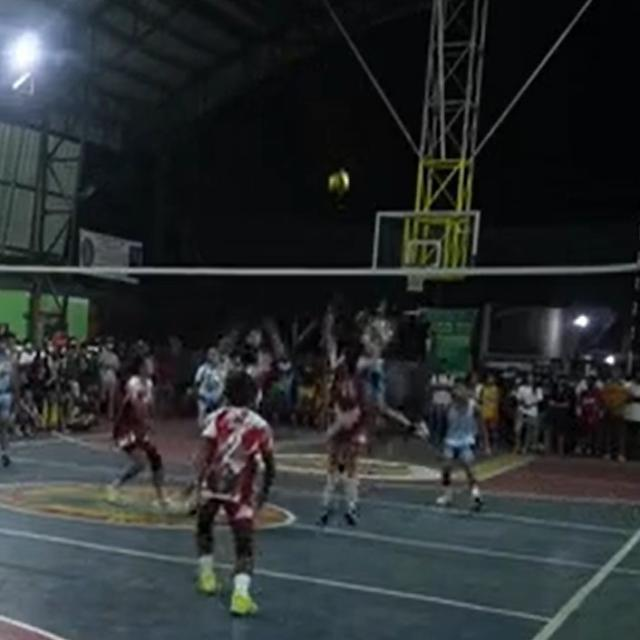volleyball: (328, 171, 348, 197)
